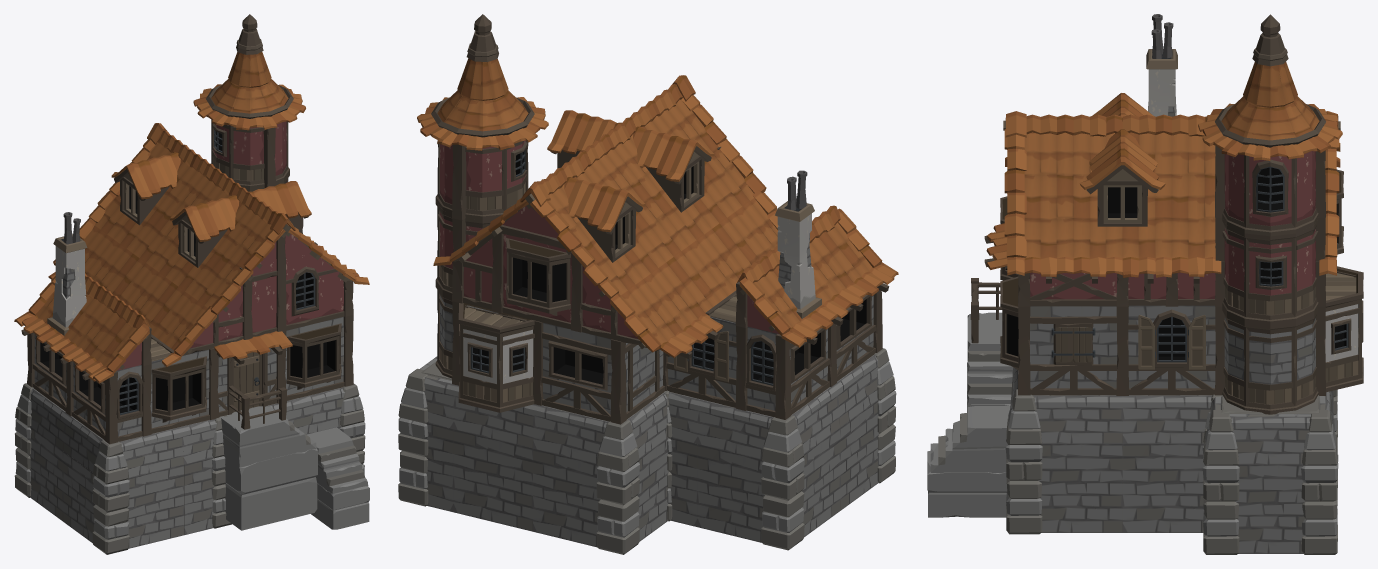
The model's file is bld_house2.gltf.
The picture shows the model from 3 angles, left to right: view 1: azimuth 30°, elevation 25°; view 2: azimuth 150°, elevation 25°; view 3: azimuth 270°, elevation 25°; orthographic projection. The views are drawn at different scales.
Parts seen in each view (by area): view 1: bld_house2; view 2: bld_house2; view 3: bld_house2.
Part boxes in pixels (box(x1,y1,x2,y2)): bld_house2: box(14, 14, 369, 554); bld_house2: box(398, 14, 898, 554); bld_house2: box(927, 14, 1363, 554).
Bounding box in the file's own units: 11.26 × 14.38 × 11.08.
Materials: 1 (1 with a texture image).
